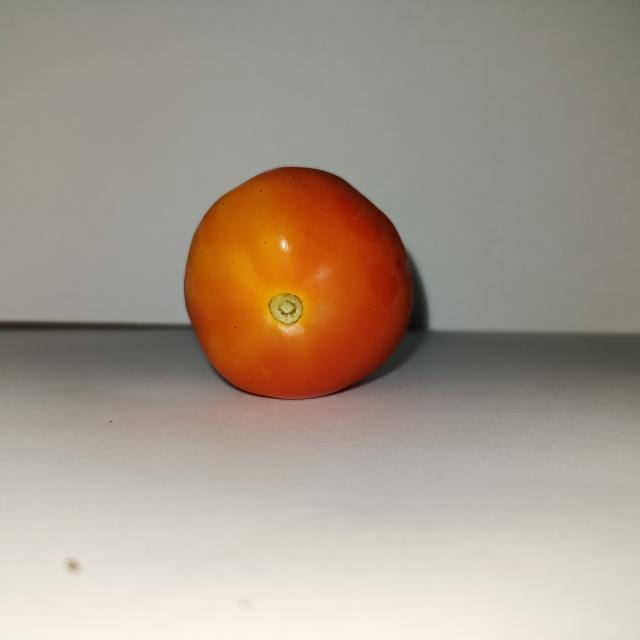Red: (182, 164, 414, 400)
